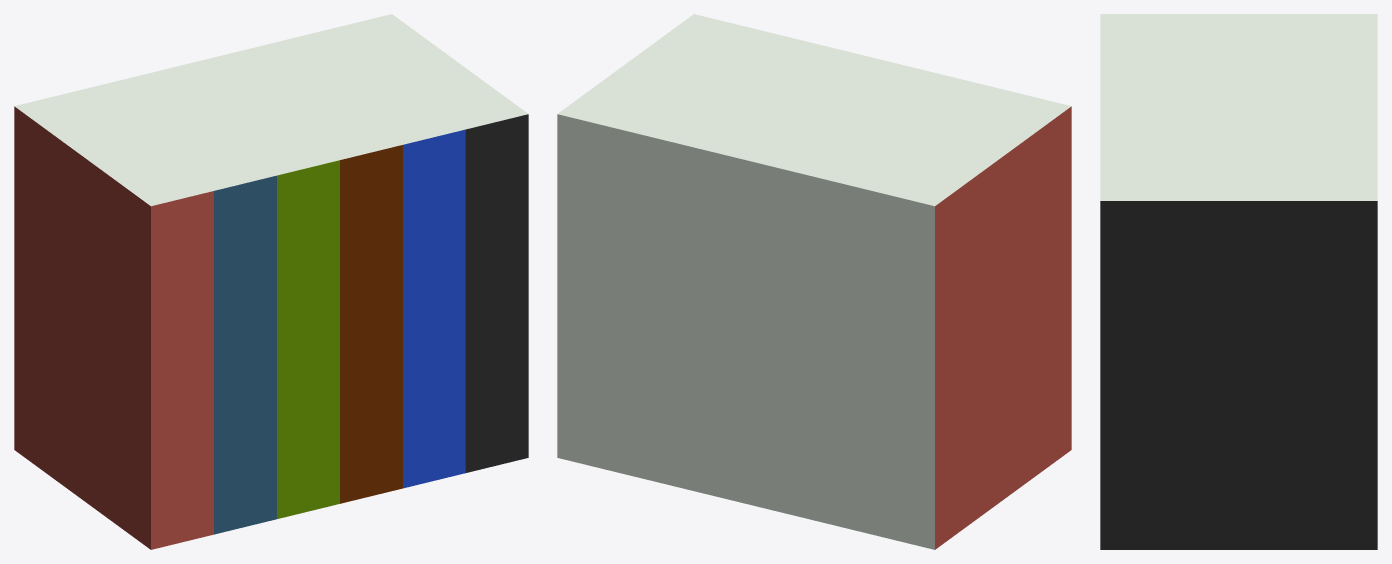
Rendered from Livros geral.fbx.
3 views of the same model, side by side, from view 1: azimuth 30°, elevation 25°; view 2: azimuth 150°, elevation 25°; view 3: azimuth 270°, elevation 25° (orthographic).
Parts seen in each view (by area): view 1: Livros; view 2: Livros; view 3: Livros.
Part boxes in pixels (x1=…): Livros: x1=14, y1=14, x2=528, y2=549; Livros: x1=557, y1=14, x2=1071, y2=549; Livros: x1=1100, y1=14, x2=1377, y2=549.
Bounding box in the file's own units: 0.7234 × 0.6289 × 0.4536.
